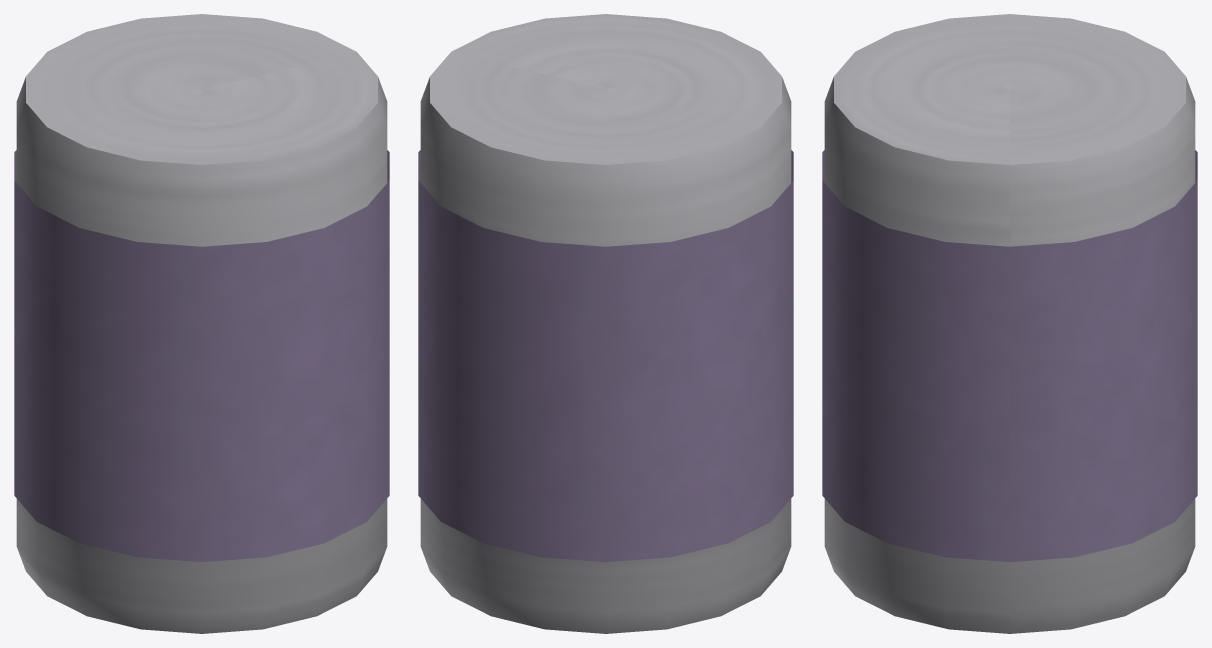
Rendered from SM_Can_Tin_Lavender.fbx.
3 views of the same model, side by side, from view 1: azimuth 30°, elevation 25°; view 2: azimuth 150°, elevation 25°; view 3: azimuth 270°, elevation 25° (orthographic).
Visible parts, largest first — view 1: SM_Can_Tin_Lavender; view 2: SM_Can_Tin_Lavender; view 3: SM_Can_Tin_Lavender.
Boxes of the visible parts, bbox=[...] form: SM_Can_Tin_Lavender: bbox=[14, 14, 389, 633]; SM_Can_Tin_Lavender: bbox=[418, 14, 793, 633]; SM_Can_Tin_Lavender: bbox=[822, 14, 1197, 633].
Size of the model in its own units: 0.081 by 0.11 by 0.0798.
Materials: 2 (2 with a texture image).
